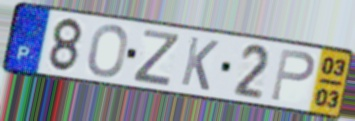2: (233, 43, 272, 102)
8: (46, 15, 87, 74)
K: (178, 34, 221, 93)
O: (86, 23, 130, 79)
P: (268, 47, 316, 104)
Z: (130, 27, 183, 88)
